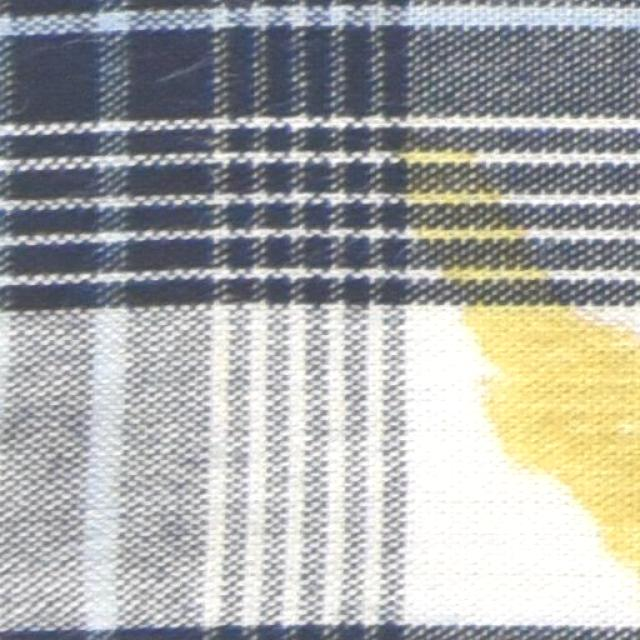Stain: (381, 131, 636, 564)
